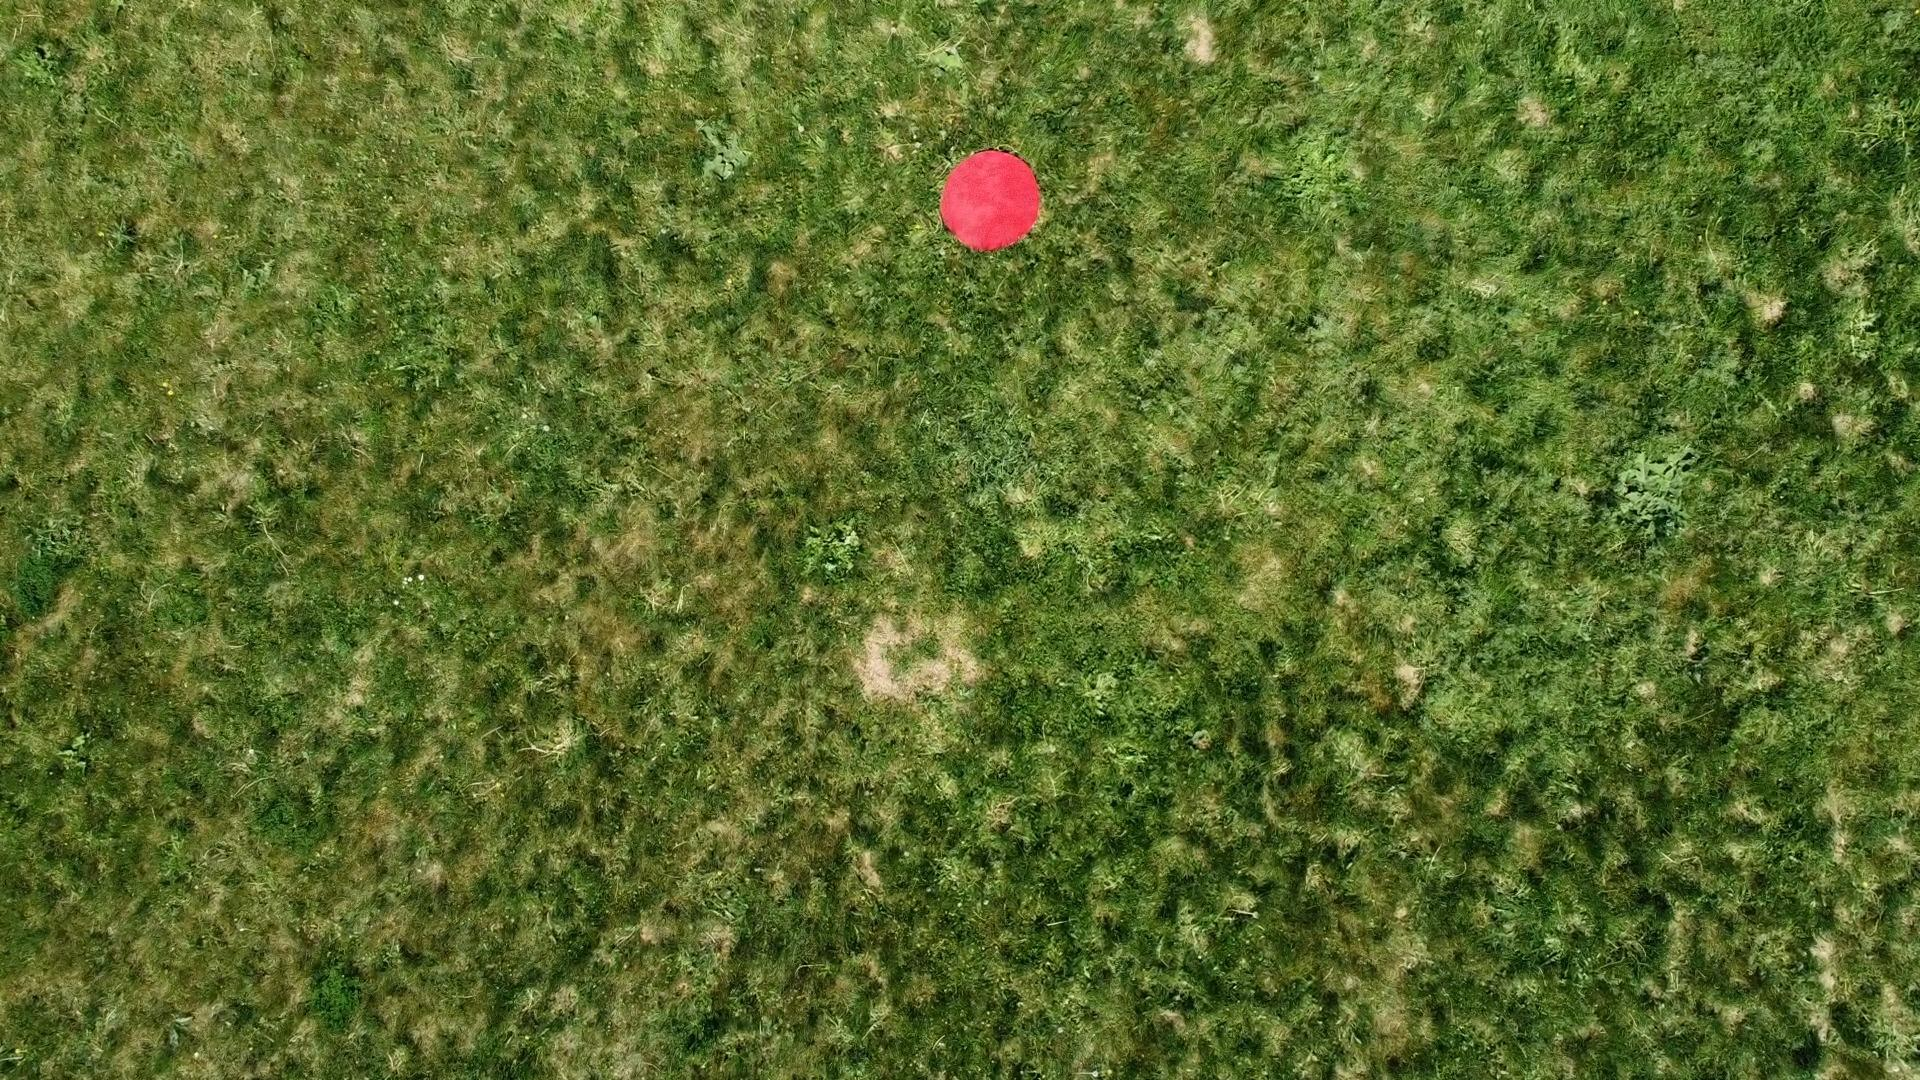Red: (938, 144, 1046, 253)
